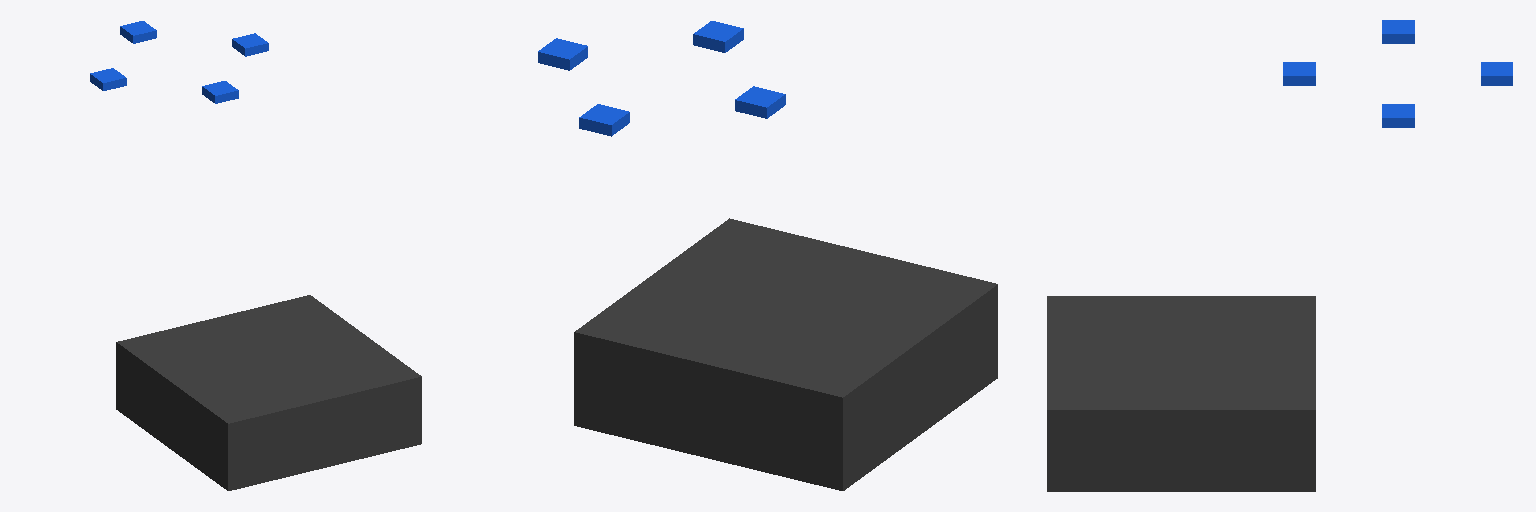
URDF robot description (visual):
<?xml version="1.0"?>
<robot name="visual">

  <material name="gray">
    <color rgba="0.3 0.3 0.3 1"/>
  </material>
  <material name="orange">
    <color rgba="0.8 0.084 0 1"/>
  </material>
  <material name="white">
    <color rgba="0.8 0.8 0.8 1"/>
  </material>

  <link name="base_link">
    <visual>
      <geometry>
        <box size="0.15 0.15 .05"/>
      </geometry>
      <material name="gray"/> 
      <origin rpy="0 0 0" xyz="0 0 -0.025"/>
    </visual>
  </link>

  <link name="link1">
    <visual>
      <geometry>
        <mesh filename="./base.stl"/>
      </geometry>
      <material name="orange"/> 
    </visual>
  </link>

    <link name="link2">
    <visual>
      <geometry>
        <mesh filename="./shoulder.stl"/>
      </geometry>
      <material name="orange"/>
      <origin rpy="0 0 0" xyz="0 0 -0.0505"/> 
    </visual>
  </link>

    <link name="link3">
    <visual>
      <geometry>
        <mesh filename="./elbow.stl"/>
      </geometry>
      <material name="orange"/>
      <origin rpy="0 0 0" xyz="0 0 -0.1705"/> 
    </visual>
  </link>

    <link name="link4">
    <visual>
      <geometry>
        <mesh filename="./wrist_pitch.stl"/>
      </geometry>
      <material name="orange"/>
      <origin rpy="0 0 0" xyz="0 0 -0.2905"/> 
    </visual>
  </link>


  <material name="tof_blue">
    <color rgba="0.15 0.45 0.95 1"/>
  </material>

  <link name="tof_ch0_link">
    <visual>
      <geometry>
        <box size="0.018 0.018 0.006"/>
      </geometry>
      <material name="tof_blue"/>
    </visual>
  </link>

  <link name="tof_ch1_link">
    <visual>
      <geometry>
        <box size="0.018 0.018 0.006"/>
      </geometry>
      <material name="tof_blue"/>
    </visual>
  </link>

  <link name="tof_ch2_link">
    <visual>
      <geometry>
        <box size="0.018 0.018 0.006"/>
      </geometry>
      <material name="tof_blue"/>
    </visual>
  </link>

  <link name="tof_ch3_link">
    <visual>
      <geometry>
        <box size="0.018 0.018 0.006"/>
      </geometry>
      <material name="tof_blue"/>
    </visual>
  </link>

  <joint name="base" type="revolute">
    <axis xyz="0 0 -1"/>
    <limit effort="1000.0" lower="0.0" upper="3.141592653589793" velocity="4.0"/>
    <origin rpy="0 0 0" xyz="0 0 0"/>
    <parent link="base_link"/>
    <child link="link1"/>
  </joint>

  <joint name="shoulder" type="revolute">
    <axis xyz="1 0 0"/>
    <limit effort="1000.0" lower="0.2617993877991494" upper="2.8797932657906435" velocity="4.0"/>
    <origin rpy="-1.5707963267948966 0 0" xyz="0 0 0.0505"/>   
    <parent link="link1"/>
    <child link="link2"/>
  </joint>

   <joint name="elbow" type="revolute">
    <axis xyz="1 0 0"/>
    <limit effort="1000.0" lower="0" upper="3.141592653589793" velocity="4.0"/>
    <origin rpy="-1.5707963267948966 0 0" xyz="0 0 0.1205"/>
    <parent link="link2"/>
    <child link="link3"/>
  </joint>

    <joint name="wrist_pitch" type="revolute">
    <axis xyz="1 0 0"/>
    <limit effort="1000.0" lower="0" upper="3.141592653589793" velocity="4.0"/>
    <origin rpy="-1.5707963267948966 0 0" xyz="0 0 0.1205"/>
    <parent link="link3"/>
    <child link="link4"/>
  </joint>



  <!-- ToF sensors mounted around the wrist-pitch body (link4).
       Reference condition: arm at HOME, theta = 90, arm pointing straight up.
       When an observer looks down at the arm with the gripper pointing toward them:
       CH0 boresight -> -Y, CH1 boresight -> +Y, CH2 boresight -> -X, CH3 boresight -> +X. -->
  <joint name="tof_ch0_joint" type="fixed">
    <parent link="link4"/>
    <child link="tof_ch0_link"/>
    <origin xyz="0.055 0.000 0.000" rpy="0 0 0"/>
  </joint>

  <joint name="tof_ch1_joint" type="fixed">
    <parent link="link4"/>
    <child link="tof_ch1_link"/>
    <origin xyz="-0.055 0.000 0.000" rpy="0 0 3.14159265359"/>
  </joint>

  <joint name="tof_ch2_joint" type="fixed">
    <parent link="link4"/>
    <child link="tof_ch2_link"/>
    <origin xyz="0.000 -0.055 0.000" rpy="0 0 -1.57079632679"/>
  </joint>

  <joint name="tof_ch3_joint" type="fixed">
    <parent link="link4"/>
    <child link="tof_ch3_link"/>
    <origin xyz="0.000 0.055 0.000" rpy="0 0 1.57079632679"/>
  </joint>

</robot>

--- Render facts (derived) ---
3 views of the same robot in one strip: view 1: azimuth 30°, elevation 25°; view 2: azimuth 150°, elevation 25°; view 3: azimuth 270°, elevation 25° (orthographic).
Robot: visual — 9 links, 8 joints (4 revolute, 4 fixed); root link base_link; default pose: joints at zero except 1 at the middle of their limits (shoulder = 1.57).
Links seen in each view (by area): view 1: base_link, tof_ch1_link, tof_ch3_link, tof_ch0_link, tof_ch2_link; view 2: base_link, tof_ch1_link, tof_ch2_link, tof_ch3_link, tof_ch0_link; view 3: base_link, tof_ch0_link, tof_ch1_link, tof_ch3_link, tof_ch2_link.
Boxes of the visible links, bbox=[...] form: base_link: bbox=[116, 295, 421, 490]; tof_ch1_link: bbox=[90, 68, 126, 90]; tof_ch3_link: bbox=[202, 81, 238, 103]; tof_ch0_link: bbox=[232, 33, 268, 56]; tof_ch2_link: bbox=[120, 21, 156, 43]; base_link: bbox=[574, 218, 997, 490]; tof_ch1_link: bbox=[735, 86, 785, 118]; tof_ch2_link: bbox=[579, 104, 629, 136]; tof_ch3_link: bbox=[693, 21, 743, 52]; tof_ch0_link: bbox=[538, 38, 587, 70]; base_link: bbox=[1047, 296, 1315, 491]; tof_ch0_link: bbox=[1382, 104, 1414, 127]; tof_ch1_link: bbox=[1382, 20, 1414, 43]; tof_ch3_link: bbox=[1283, 62, 1315, 85]; tof_ch2_link: bbox=[1481, 62, 1512, 85].
Size in the robot's own frame: 0.15 by 0.2595 by 0.224 metres.
Meshes: 4 distinct files referenced, 0 mesh visuals loaded (none loaded); not drawn: 4 (reference not matched to a file when rendering).
